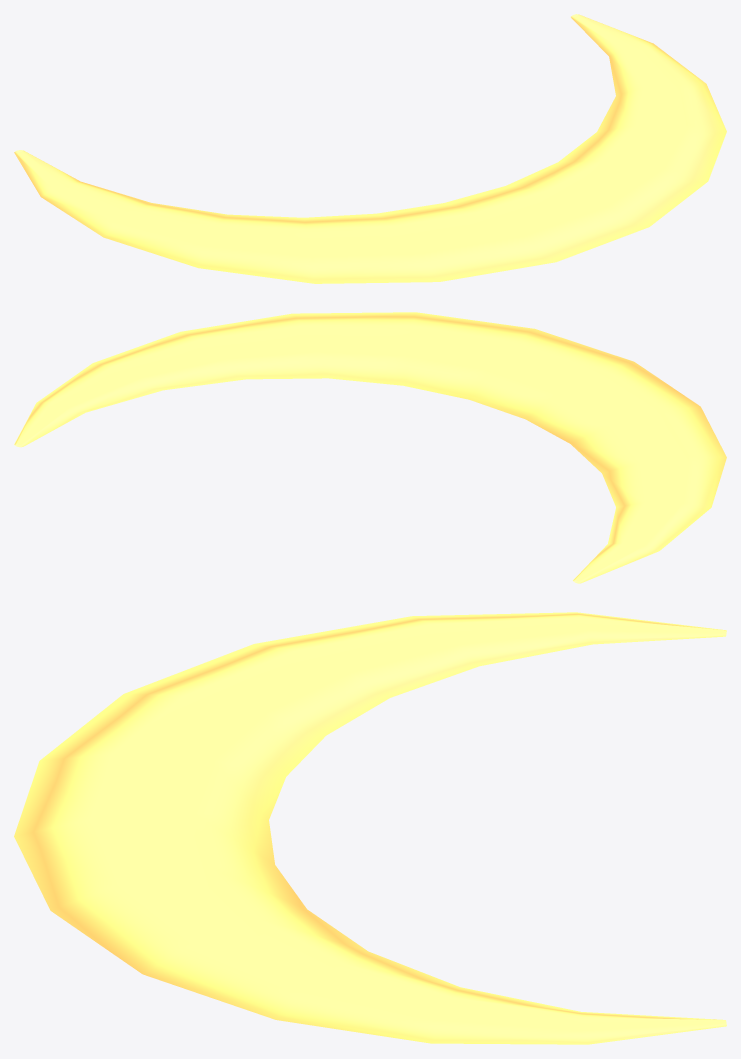
File: vfx_slash_fire.glb
The picture shows the model from 3 angles, top to bottom: view 1: azimuth 30°, elevation 25°; view 2: azimuth 150°, elevation 25°; view 3: azimuth 270°, elevation 25°; orthographic projection. The views are drawn at different scales.
Parts seen in each view (by area): view 1: VfxRoot; view 2: VfxRoot; view 3: VfxRoot.
Boxes of the visible parts, <box> form: VfxRoot: <box>14,14,726,283</box>; VfxRoot: <box>14,312,726,583</box>; VfxRoot: <box>14,612,726,1044</box>.
Size of the model in its own units: 2.7 by 0.07 by 1.88.
